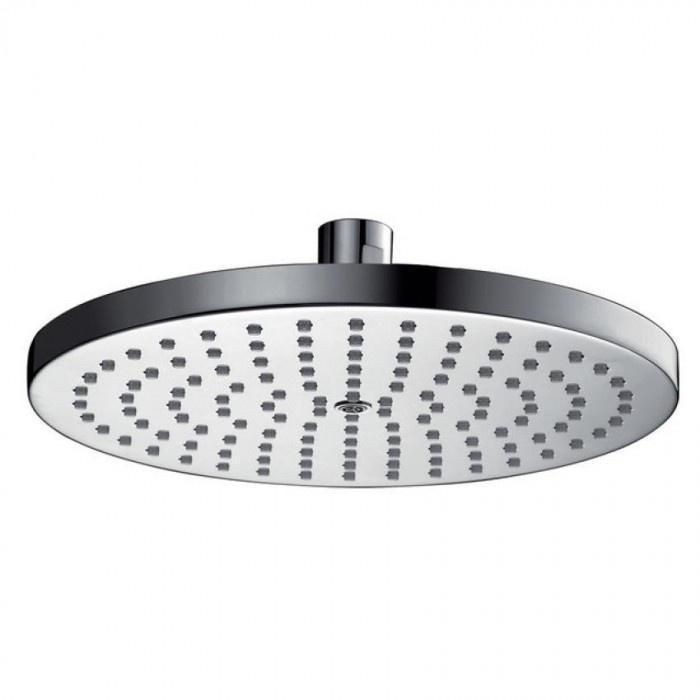Ducha: (18, 206, 689, 504)
